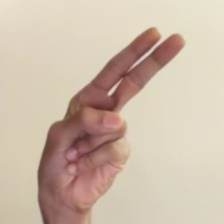H: (34, 21, 197, 219)
